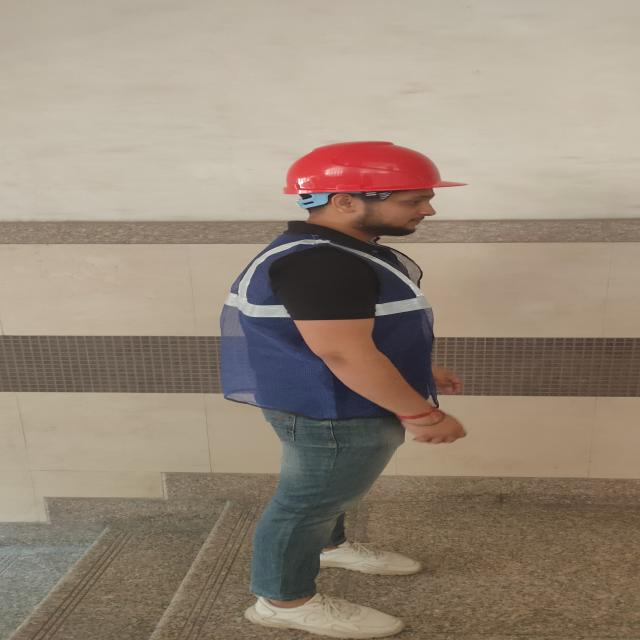safe: (223, 141, 467, 639)
